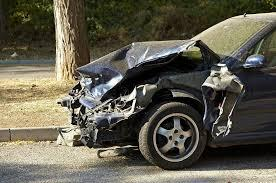bonnet-dent: (76, 35, 213, 78)
fender-dent: (156, 75, 217, 105)
